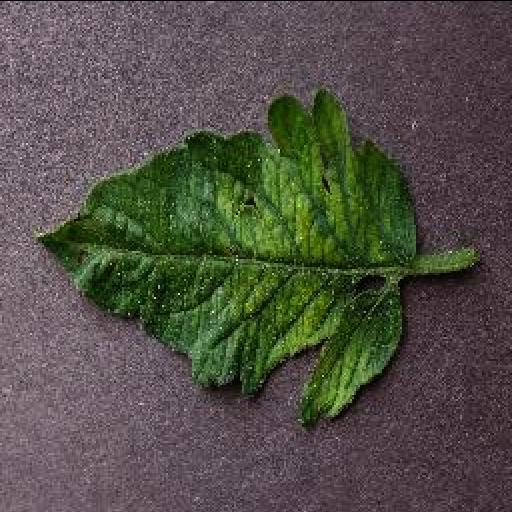Mosaic Virus: (32, 86, 416, 432)
